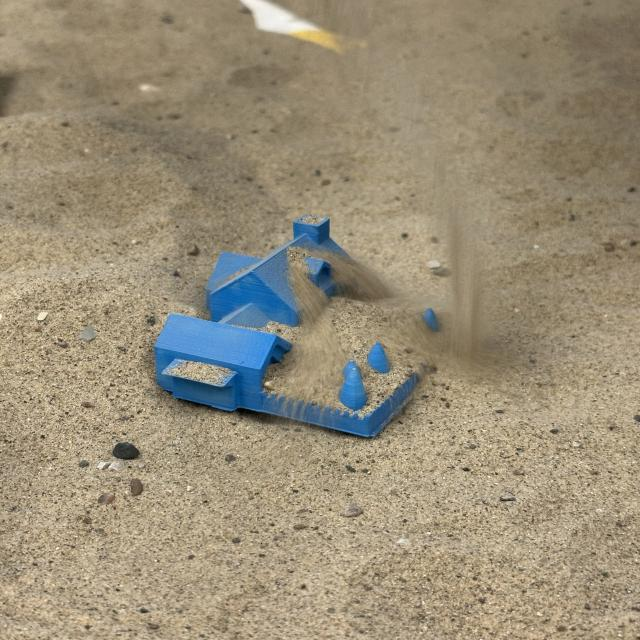house: (152, 212, 440, 438)
